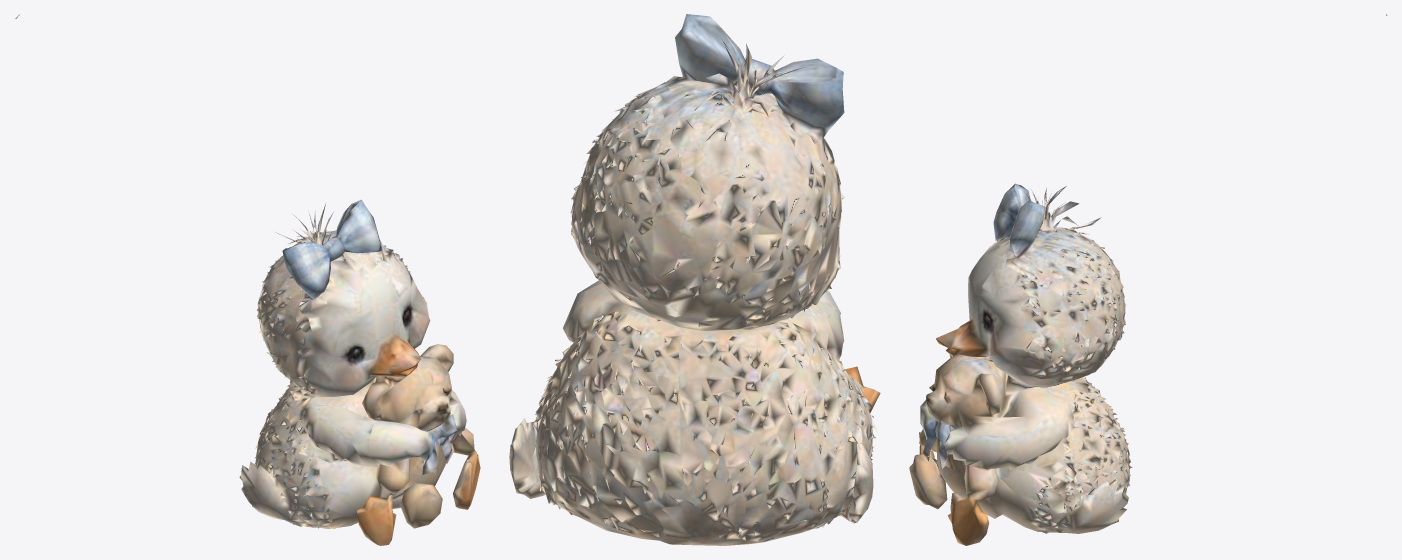
The picture shows the model from 3 angles, left to right: view 1: azimuth 30°, elevation 25°; view 2: azimuth 150°, elevation 25°; view 3: azimuth 270°, elevation 25°; orthographic projection. The views are drawn at different scales.
Bounding box in the file's own units: 0.6605 × 0.9451 × 0.997.
Materials: 1 (1 with a texture image).
